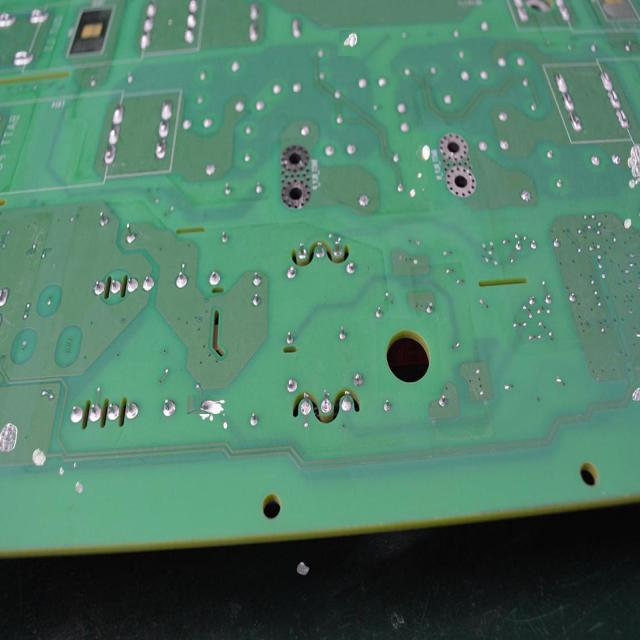spillover: (192, 388, 224, 420), (0, 415, 20, 457), (625, 134, 639, 190), (338, 29, 361, 56), (30, 439, 52, 467), (630, 376, 640, 409), (416, 143, 431, 161)
